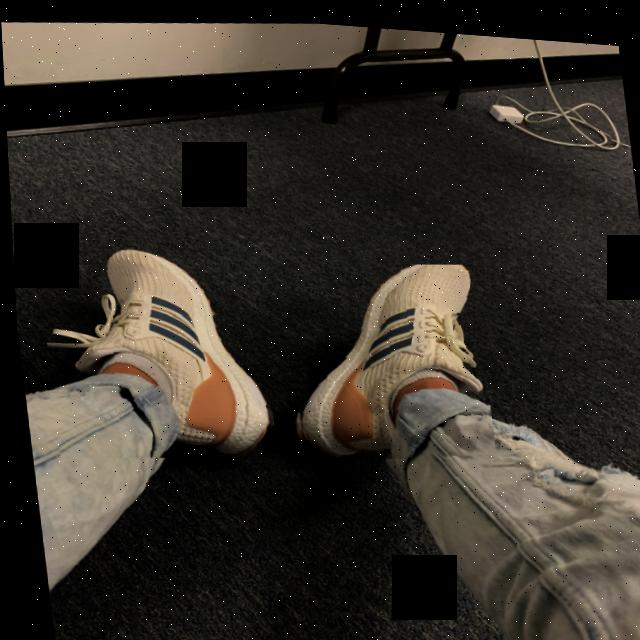shoe: (31, 231, 277, 470), (272, 245, 492, 469)
